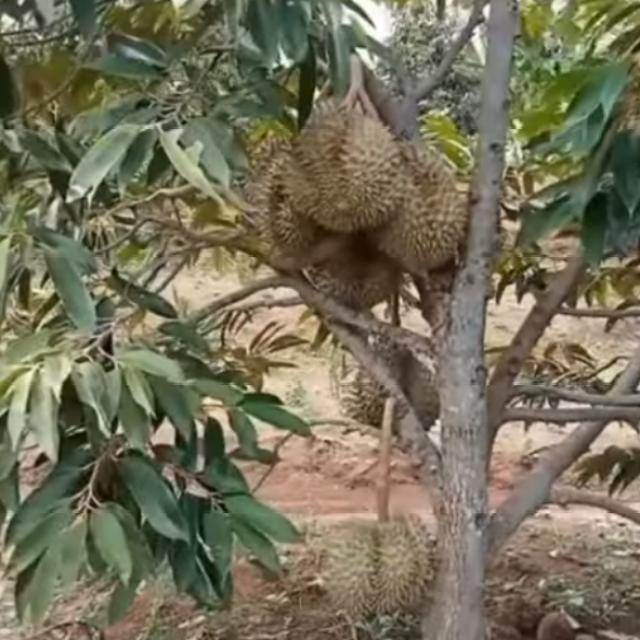mature: (277, 108, 411, 238), (342, 142, 471, 274), (317, 506, 445, 624)
